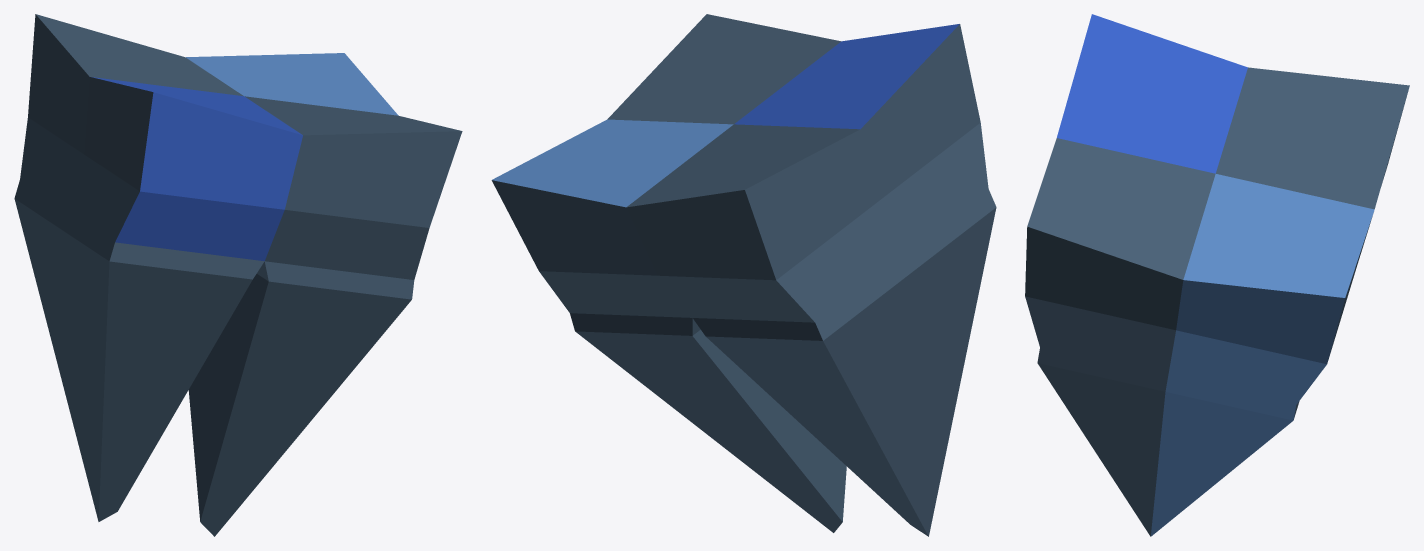
File: Diente.fbx
3 renders of one model, left to right at view 1: azimuth 30°, elevation 25°; view 2: azimuth 150°, elevation 25°; view 3: azimuth 270°, elevation 25°, orthographic. The views are drawn at different scales.
Parts seen in each view (by area): view 1: Cube; view 2: Cube; view 3: Cube.
Boxes of the visible parts, box(x1,y1,x2,y2) form: Cube: box(14, 14, 462, 536); Cube: box(491, 14, 996, 536); Cube: box(1025, 14, 1409, 536).
Size of the model in its own units: 103 by 134 by 97.65.
